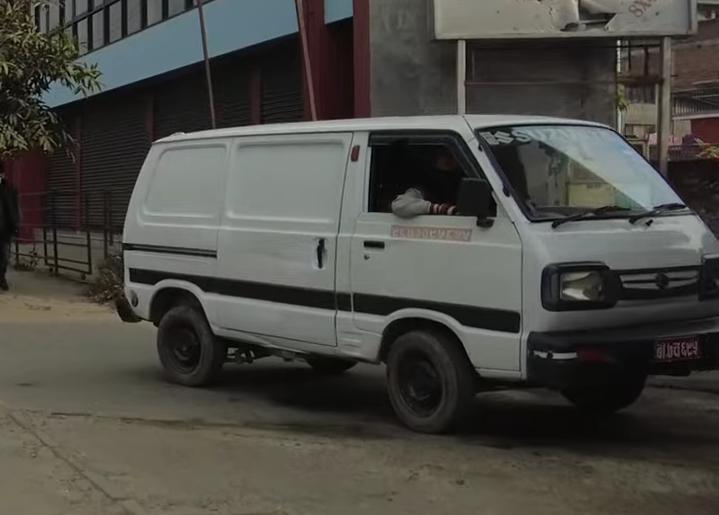van: (117, 95, 719, 438)
